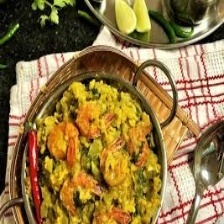sabzi: (23, 78, 167, 224)
